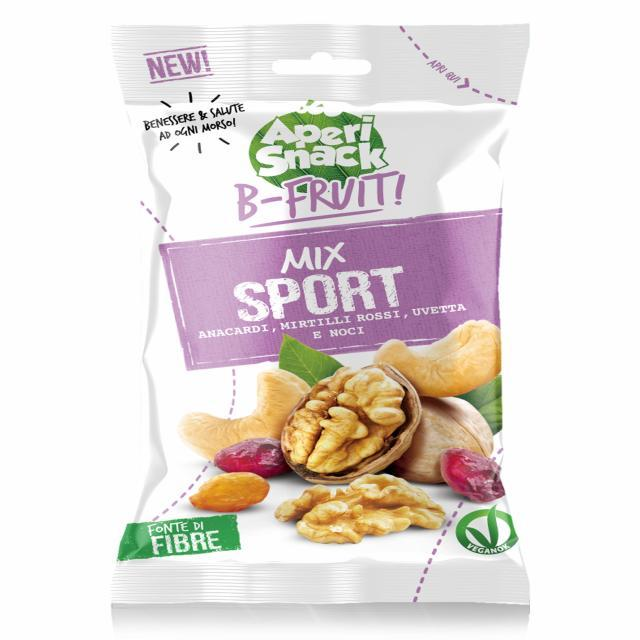Frutta secca: (282, 371, 410, 477), (279, 473, 440, 540), (369, 322, 499, 402), (186, 475, 282, 514)
